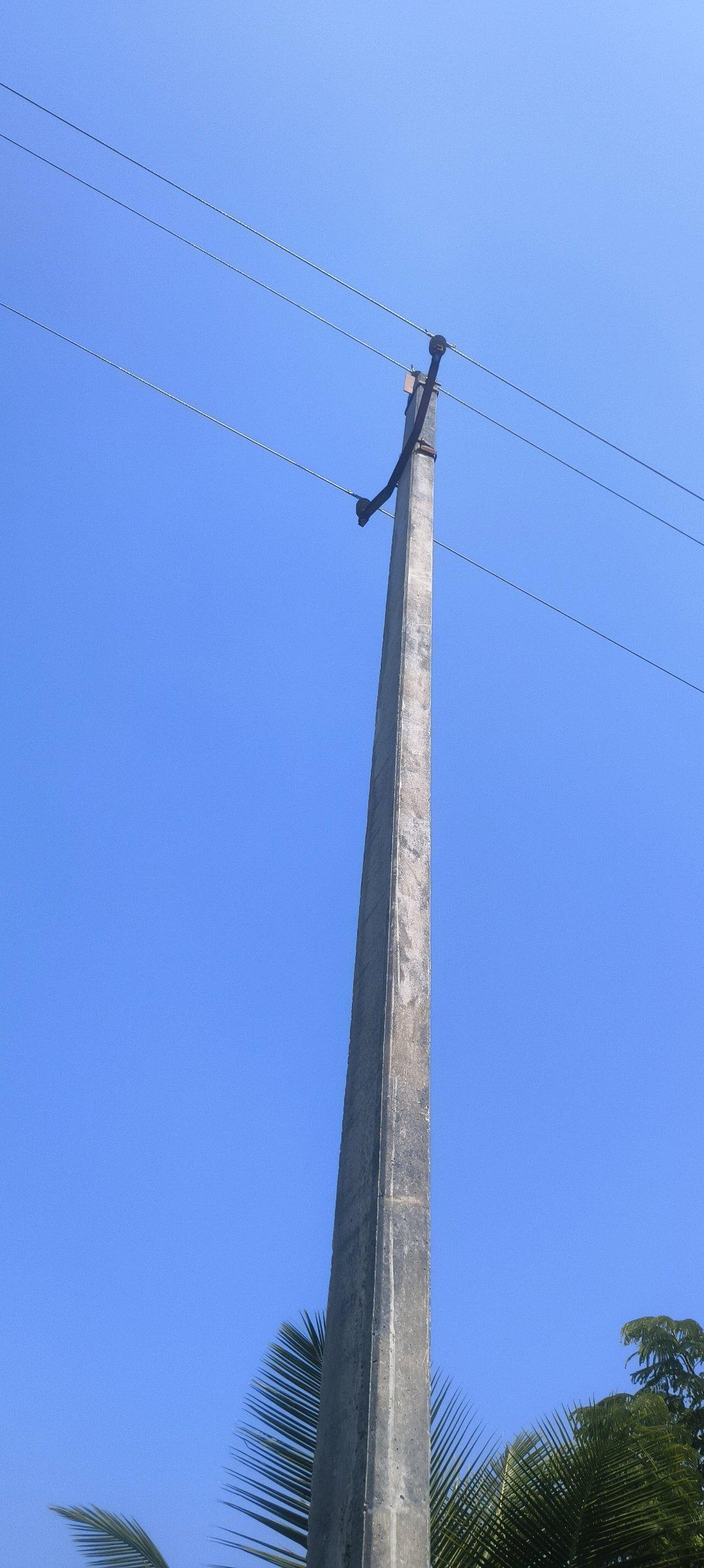{"0" "insulator", "1" "pole", "2" "crossarm", "3" "conductor", "4" "street_: (229, 339, 446, 1567), (460, 1421, 473, 1468), (449, 1458, 462, 1486), (237, 1533, 242, 1550), (452, 1445, 458, 1457), (476, 1445, 478, 1451), (454, 1421, 456, 1427), (443, 1446, 445, 1451), (443, 1471, 445, 1475), (473, 1452, 475, 1456), (443, 1496, 445, 1499), (465, 1470, 467, 1473), (460, 1422, 462, 1425), (452, 1428, 453, 1432)
